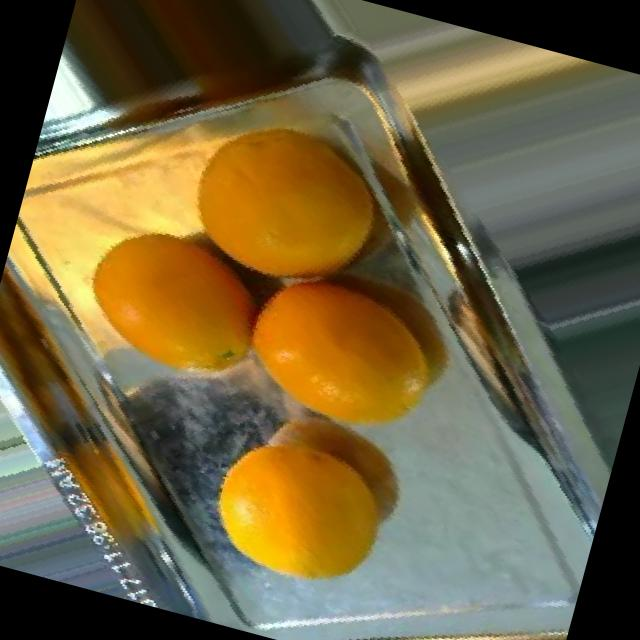Fruit: (195, 376, 442, 626), (479, 152, 640, 372)
